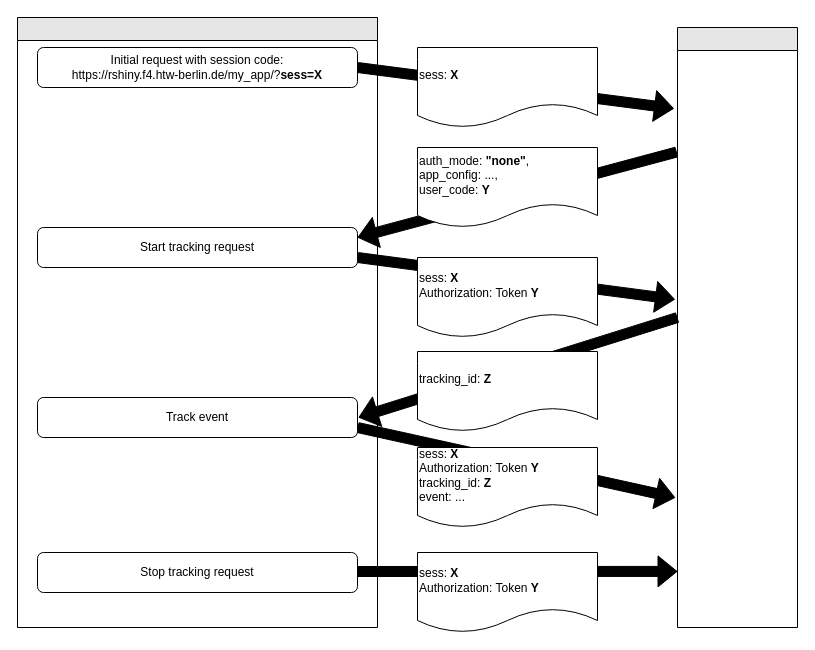
This 815x650 diagram has some shape labels left out. The box of each missing label's shape, as (x1, y1, x2, y2) in pixels:
Client application: (16, 16, 378, 628)
Web API: (676, 26, 798, 628)
